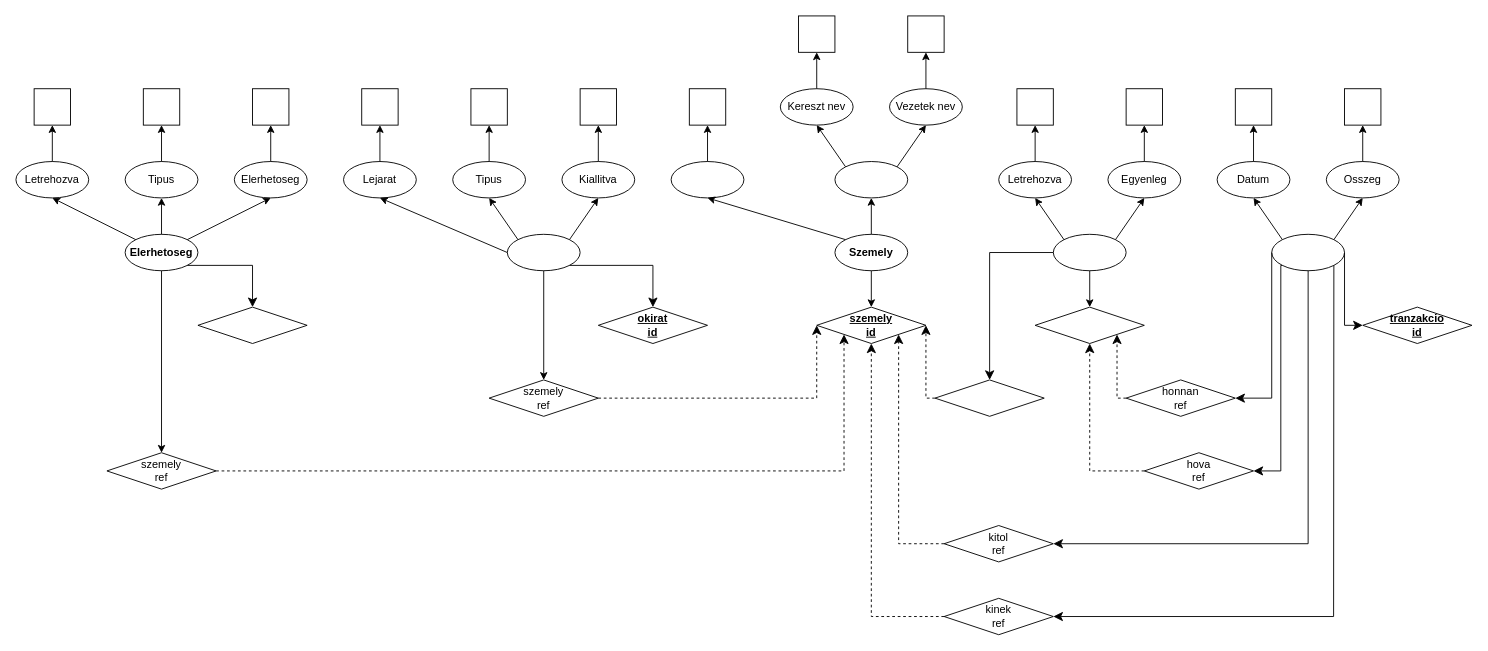
This 1488x651 diagram has some shape labels left out. The shapes that lost their labels are listed below. From the top down, each one's centre as x and y in pixels, then its label:
point (707, 179): Szuletesi datum
point (871, 179): Teljes nev
point (543, 252): Okirat
point (1089, 252): Szamla
point (1308, 252): Tranzakcio
point (252, 325): elerhetoseg id
point (1089, 325): szamla id
point (989, 397): tulajdonos ref
